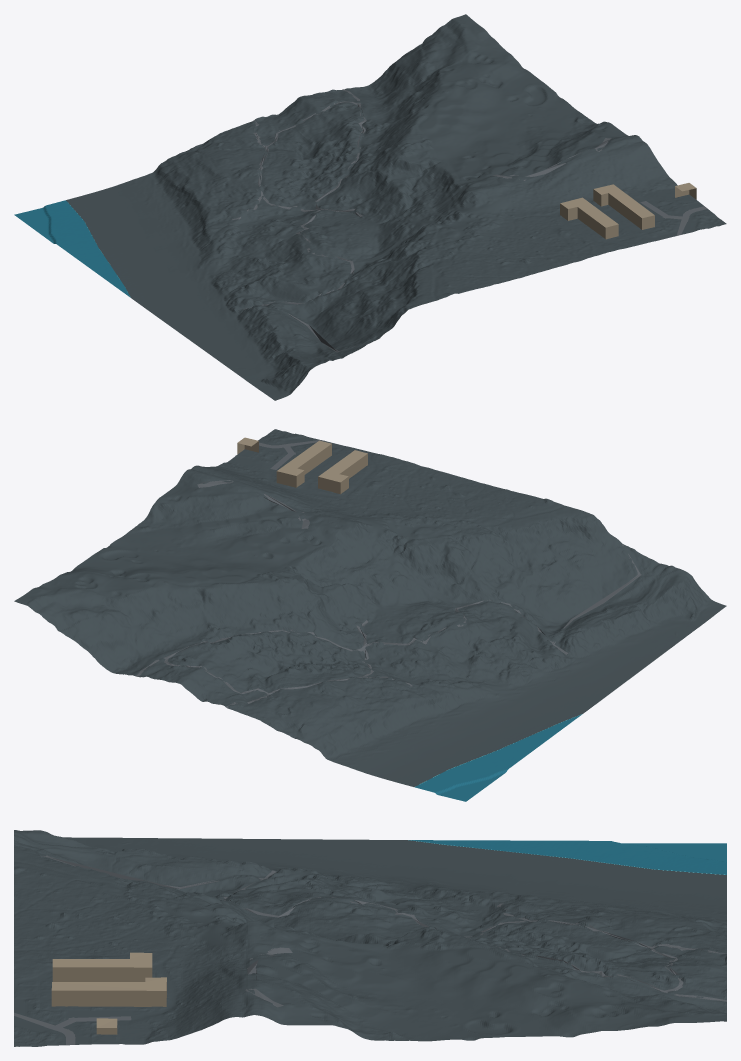
The model's file is epsg26910-1416-10869.lod0.glb.
3 views of the same model, one above another, from view 1: azimuth 30°, elevation 25°; view 2: azimuth 150°, elevation 25°; view 3: azimuth 270°, elevation 25° (orthographic). The views are drawn at different scales.
Parts seen in each view (by area): view 1: epsg26910-1416-10869-lod0; view 2: epsg26910-1416-10869-lod0; view 3: epsg26910-1416-10869-lod0.
Part boxes in pixels (x1,y1,x2,y2): epsg26910-1416-10869-lod0: [14, 14, 726, 400]; epsg26910-1416-10869-lod0: [14, 429, 726, 801]; epsg26910-1416-10869-lod0: [14, 830, 726, 1046].
Size of the model in its own units: 384 by 77.08 by 384.
